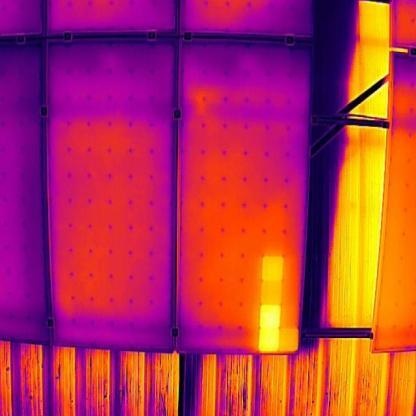anomaly: (258, 249, 305, 356)
